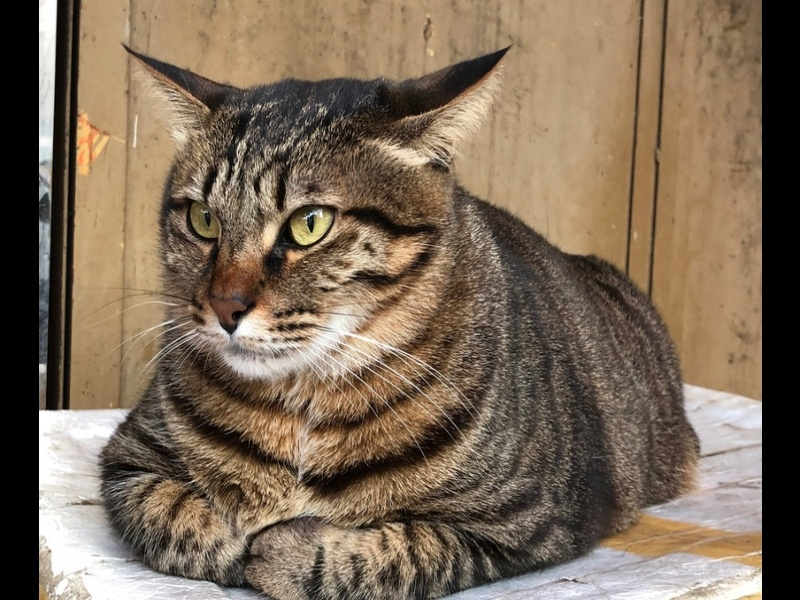cat: (89, 36, 712, 597)
